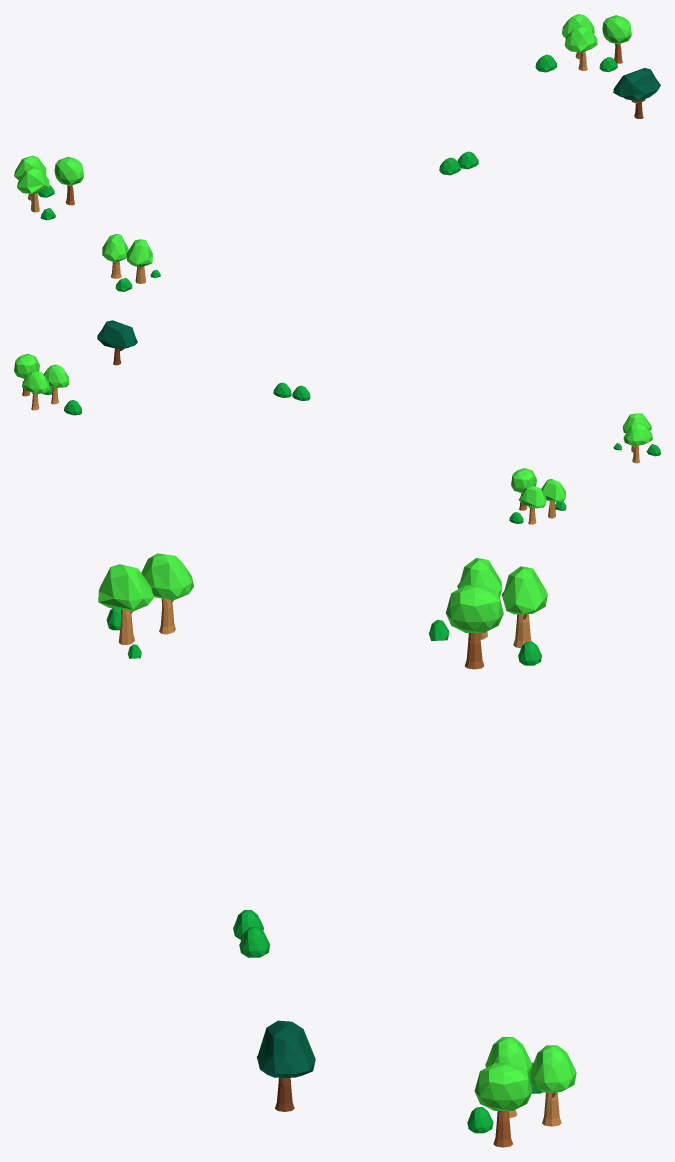
File: Level2WorldZone3.glb
3 views of the same model, one above another, from view 1: azimuth 30°, elevation 25°; view 2: azimuth 150°, elevation 25°; view 3: azimuth 270°, elevation 25° (orthographic). The views are drawn at different scales.
Visible parts, largest first — view 1: check3_treesnshrubs; view 2: check3_treesnshrubs; view 3: check3_treesnshrubs.
Part boxes in pixels (box(x1,y1,x2,y2)): check3_treesnshrubs: box(14, 14, 660, 291); check3_treesnshrubs: box(14, 320, 660, 524); check3_treesnshrubs: box(98, 553, 576, 1147).
Size of the model in its own units: 73.17 by 5.47 by 27.64.
1 material, 1 textured.
